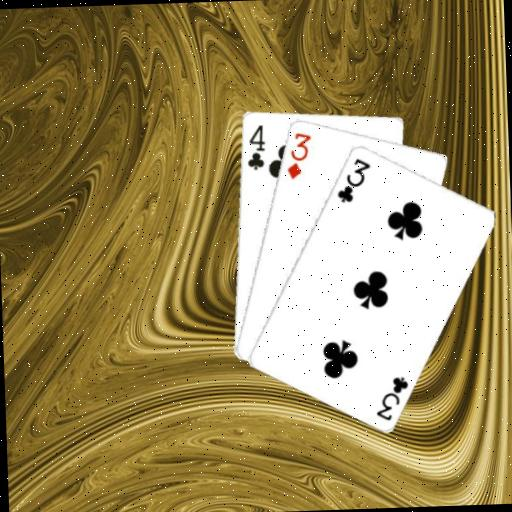3C: (332, 153, 373, 203), (372, 373, 411, 423)
3D: (282, 128, 314, 180)
4C: (243, 121, 267, 172)
